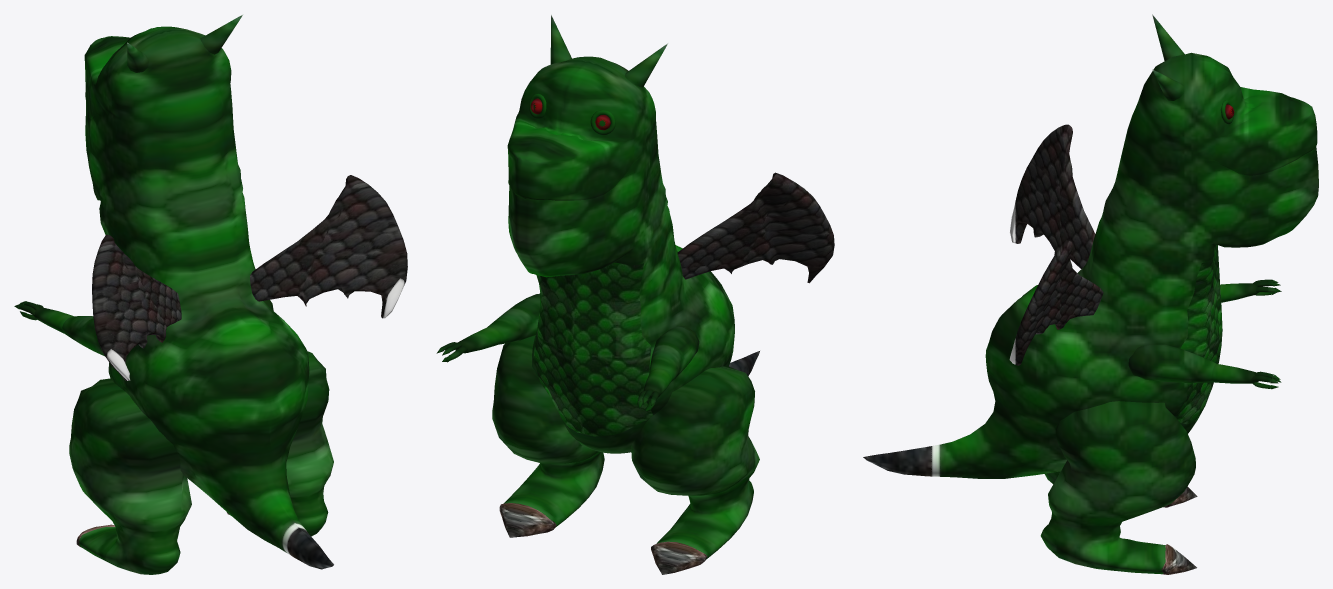
Rendered from dragon.FBX.
3 renders of one model, left to right at view 1: azimuth 30°, elevation 25°; view 2: azimuth 150°, elevation 25°; view 3: azimuth 270°, elevation 25°, orthographic. The views are drawn at different scales.
Parts seen in each view (by area): view 1: Mesh02; view 2: Mesh02; view 3: Mesh02.
Boxes of the visible parts, bbox=[...] form: Mesh02: bbox=[14, 14, 407, 574]; Mesh02: bbox=[436, 15, 834, 574]; Mesh02: bbox=[863, 14, 1318, 574].
Size of the model in its own units: 0.9258 by 1.44 by 1.21.
1 material, 1 textured.
